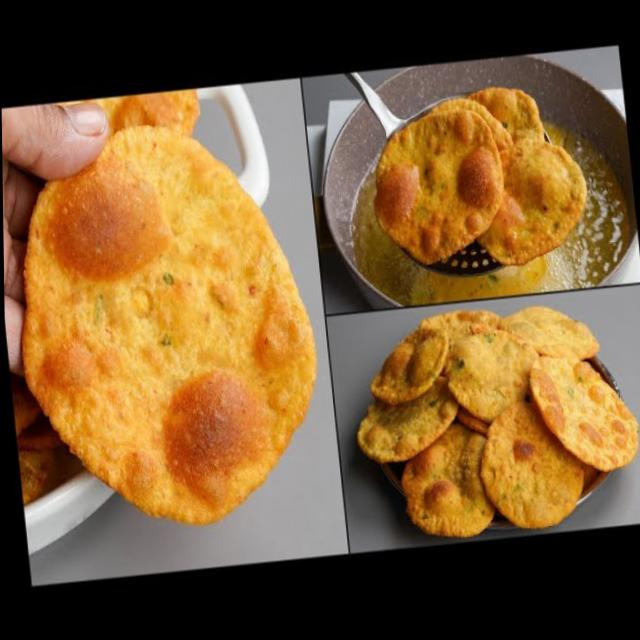POORI: (19, 124, 317, 526), (355, 303, 640, 540), (374, 83, 590, 269)
